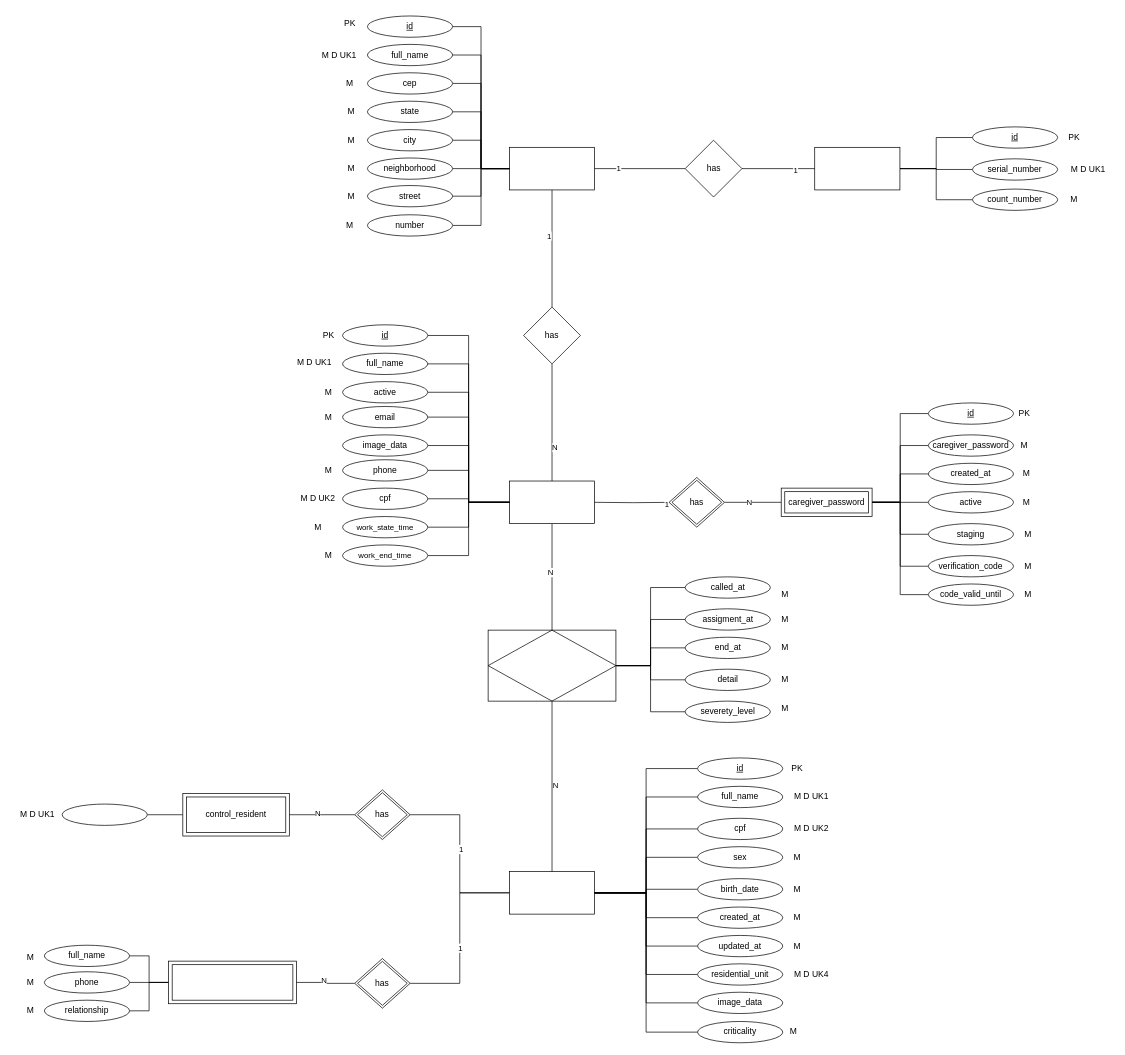
Image size: 1125x1055. Some labels were removed from this diagram. The centre of each missing label's shape, as x and y in pixels:
alarm: the point at 857,168
caregiver: the point at 552,502
caregiver_assigment_resident: the point at 551,665
control_id: the point at 104,814
organization: the point at 552,168
resident: the point at 552,892
resident_emergency_contact: the point at 232,982
